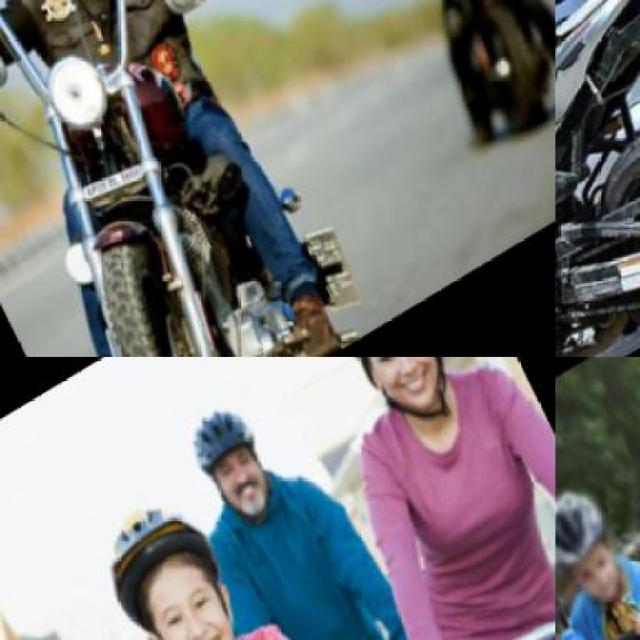With Helmet: (79, 476, 258, 638), (556, 470, 638, 632), (168, 392, 277, 508), (297, 357, 465, 409)
